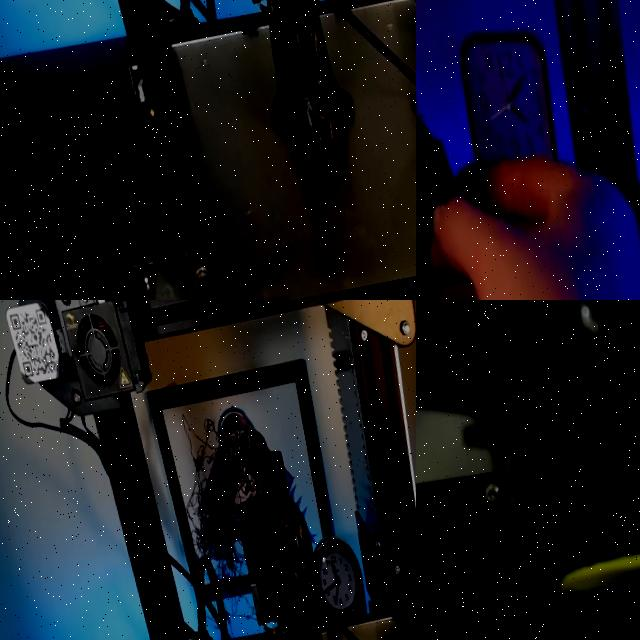spaghetti: (193, 413, 253, 570), (178, 432, 196, 486)
